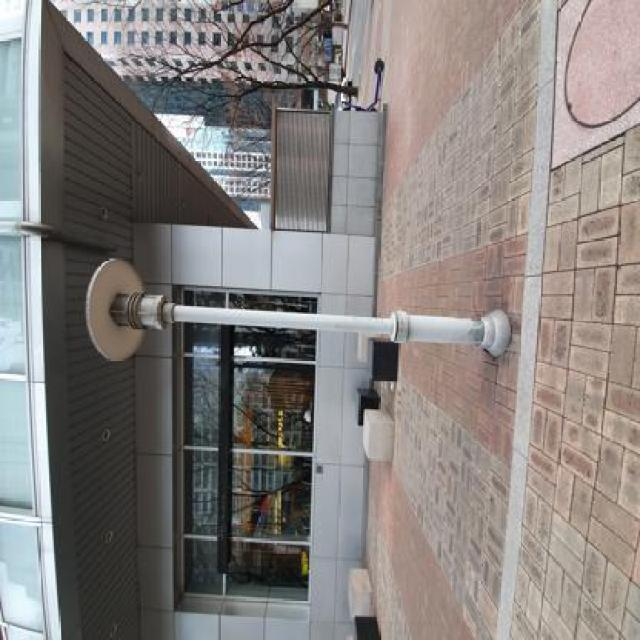pole: (75, 254, 517, 378)
